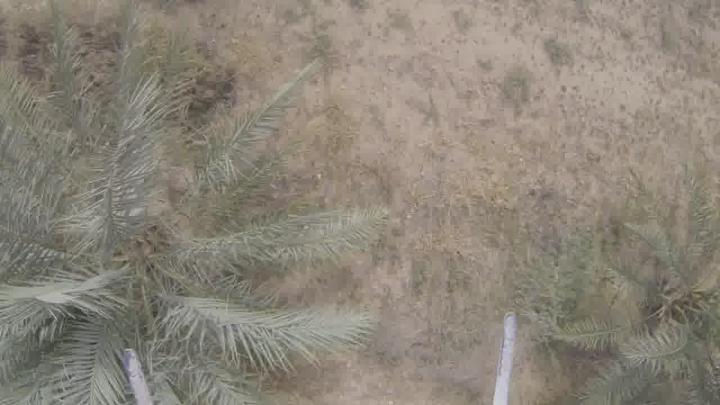Date-Palm-Crown: (0, 103, 286, 405), (612, 205, 720, 399)
